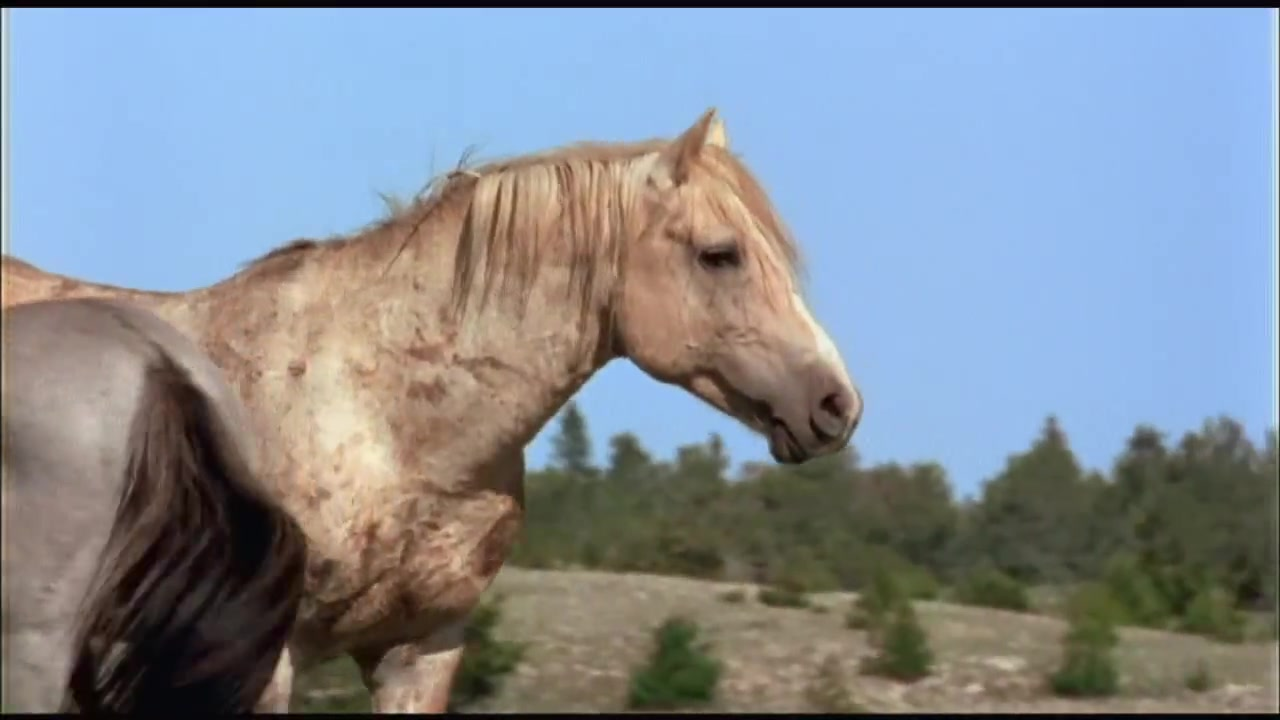horse: (1, 105, 868, 717)
